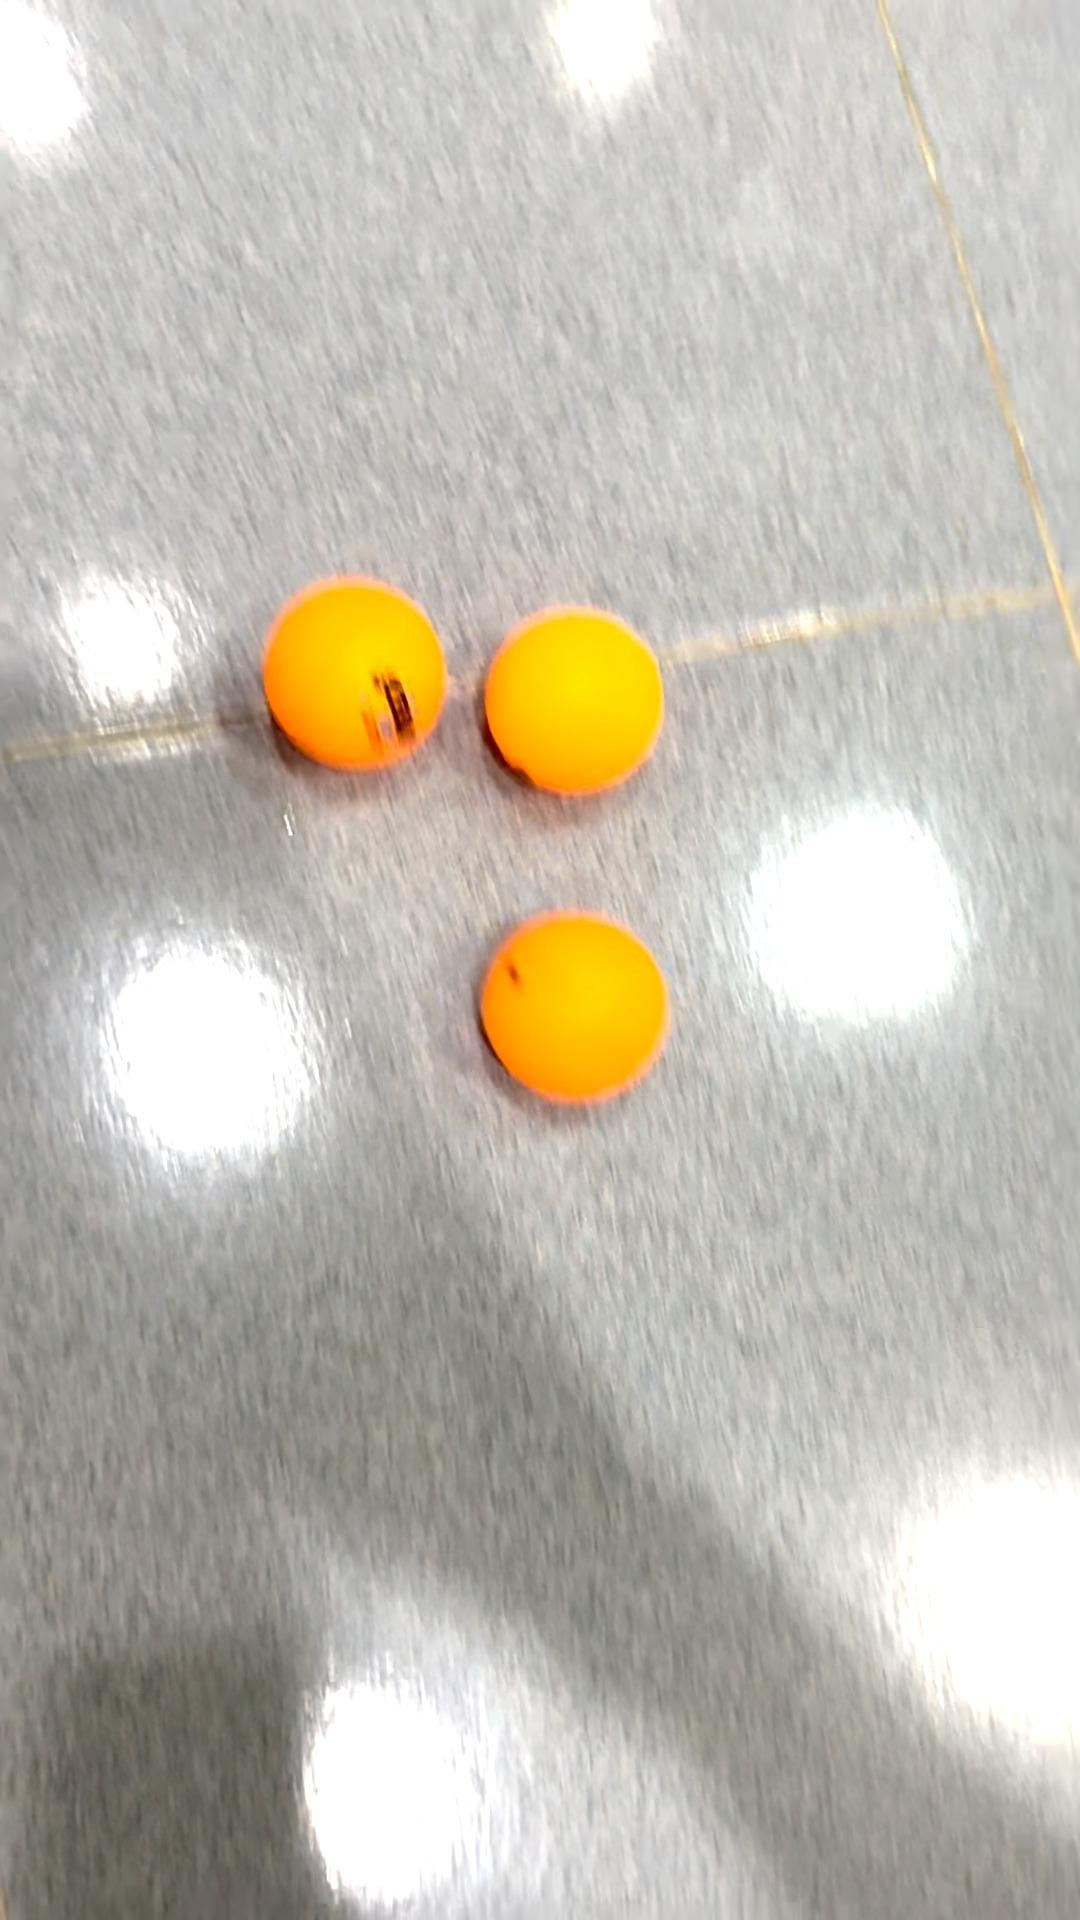oball: (475, 898, 684, 1124), (261, 564, 452, 773), (484, 604, 671, 802)
